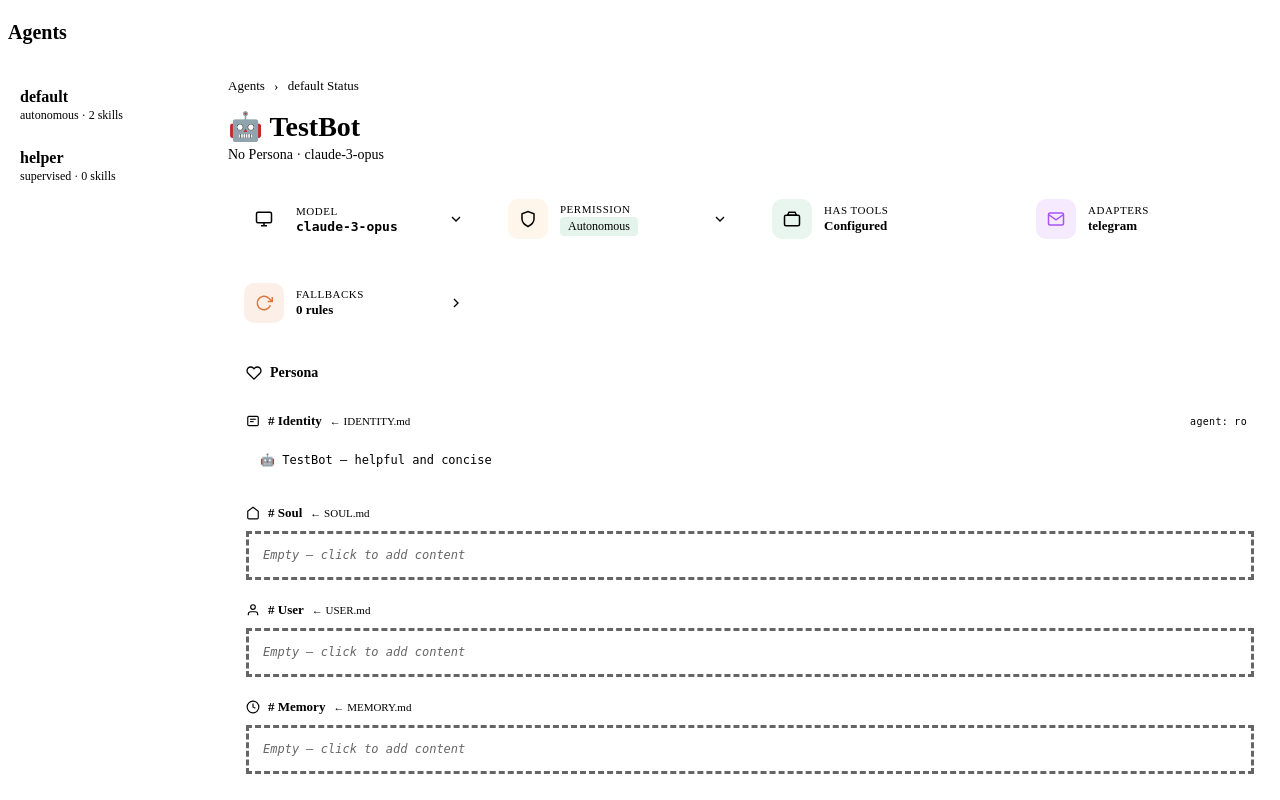
Scenario: Agents page › clicking second agent shows its details
Click the text "helper" at (42, 158), box [20,149,64,167]
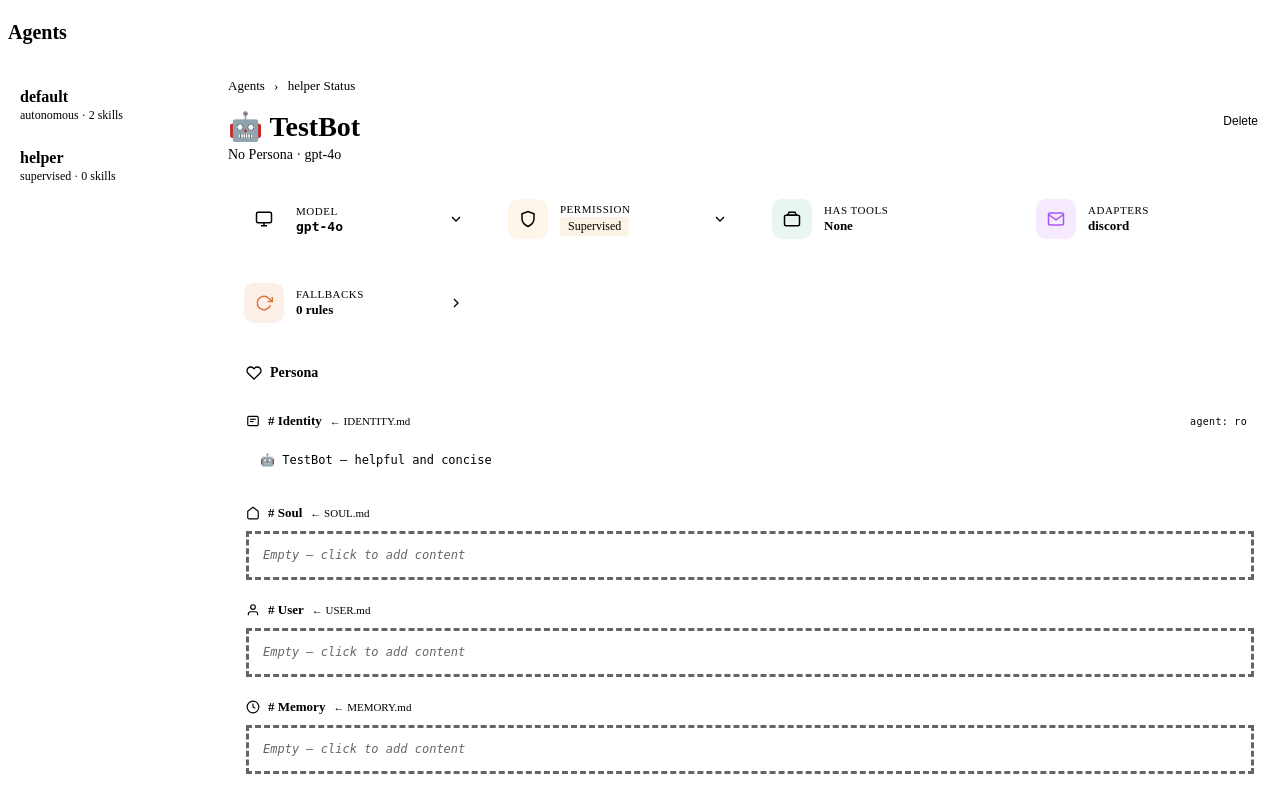
Check: the text "Supervised" is shown, box [560,217,629,236]
